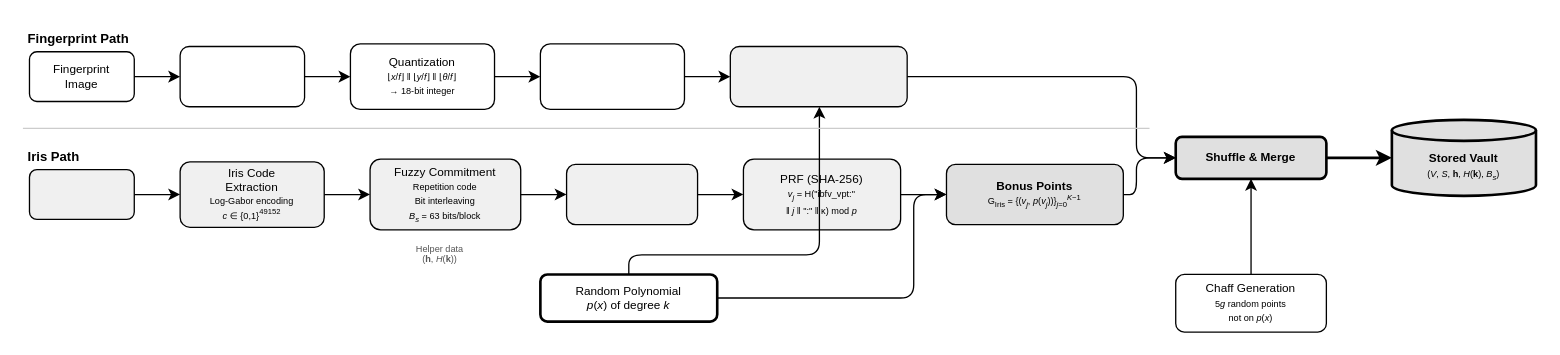
Image size: 1560x355. Some labels were removed from this diagram. The centre of each missing label's shape, as x and y in pixels:
"EC Mapping P i = q i · G (BrainpoolP256r1)" goes at point (611, 76).
"Genuine Points G FP = {( P i . x , p ( P i . x ))}" goes at point (818, 76).
"Iris Image" goes at point (81, 193).
"Key Hash κ = SHA-256( k ) n b = 780-bit key" goes at point (631, 194).
"Minutiae Extraction M = {( x , y , θ )}" goes at point (242, 76).
